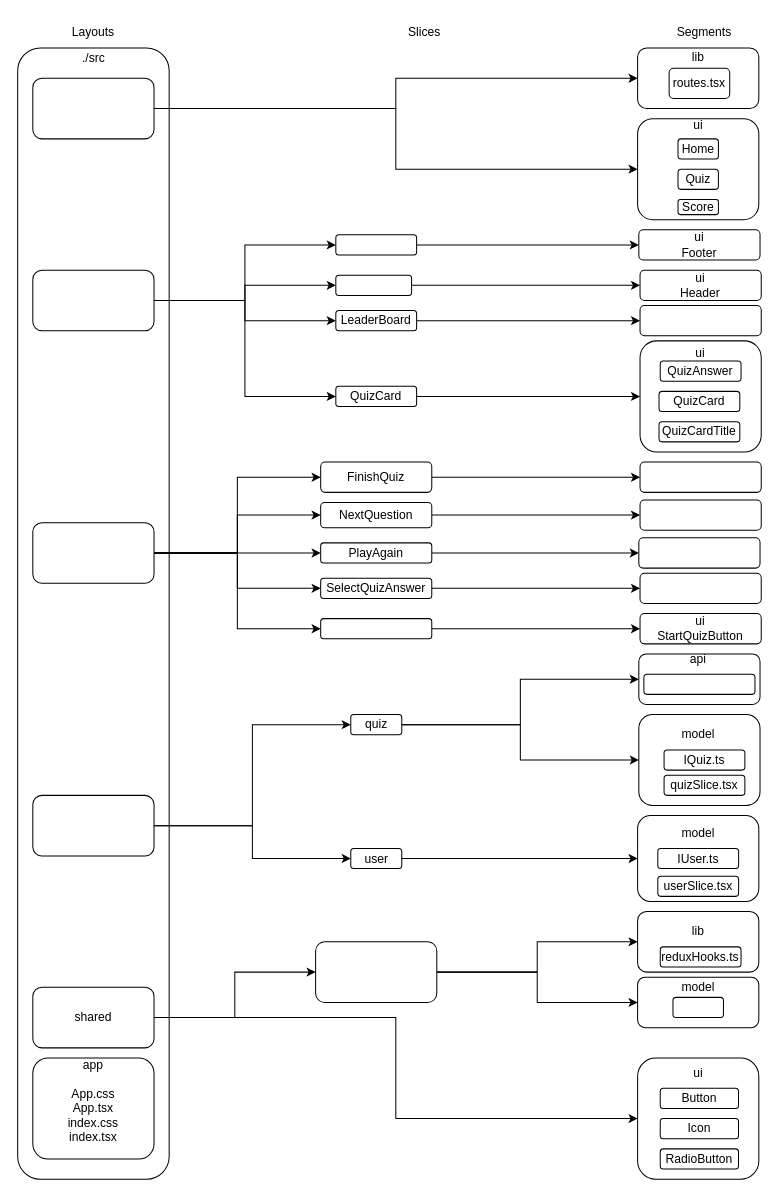
The diagram is 780 pixels wide and 1197 high, and some of its shapes have lost their labels. The centre of each missing label's shape, as x and y in pixels:
entities: pixel 93 825
features: pixel 93 552
Footer: pixel 376 244
handleSelectQuiz: pixel 700 587
Header: pixel 373 284
pages: pixel 93 108
quizActionCreators: pixel 699 683
StartQuiz: pixel 376 628
store: pixel 376 971
store.ts: pixel 697 1007
ui FinishQuizButton: pixel 700 476
ui LeaderBoard: pixel 700 320
ui NextQuestionButton: pixel 700 514
ui PlayAgainButton: pixel 699 552
widgets: pixel 93 300
